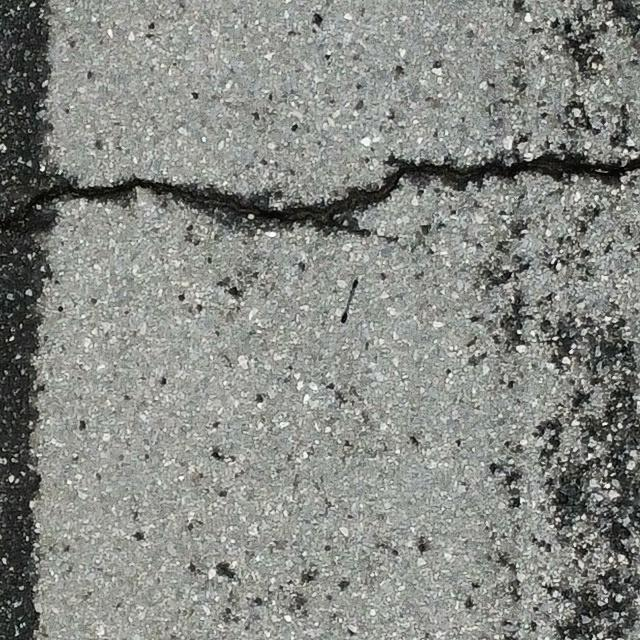TransverseCrack: (43, 149, 640, 236)
